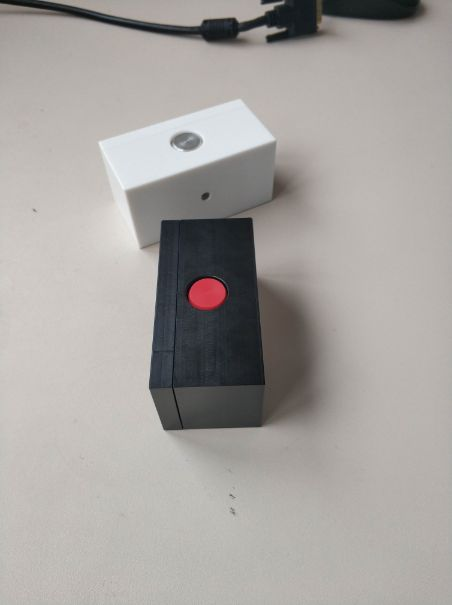black+black+red: (147, 217, 268, 433)
white+white+silver: (95, 95, 279, 254)
